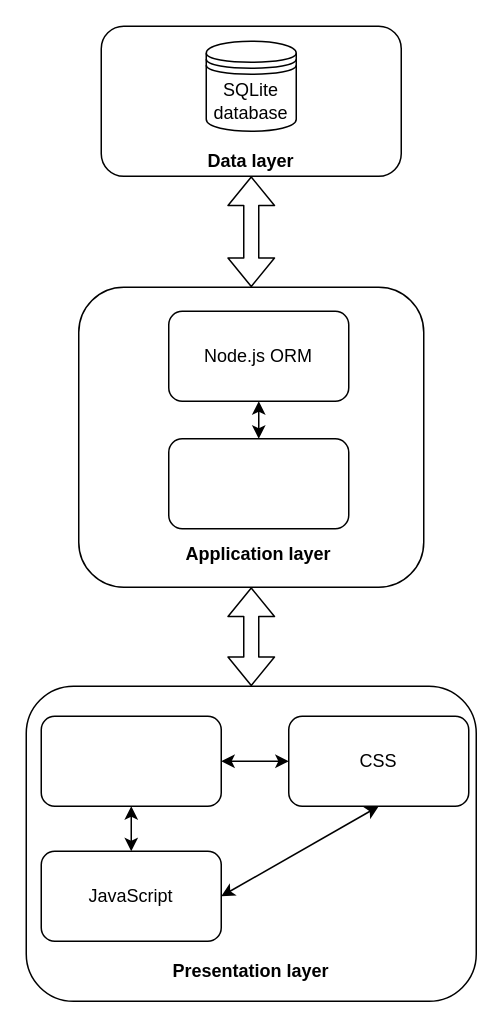
The diagram is 503 pixels wide and 1028 high, and some of its shapes have lost their labels. The shapes that lost their labels are listed below. From the top down, each one's box as (x1, y1, x2, y2) in pixels, then its label:
(167, 437, 349, 529): Node.js Controllers
(40, 715, 221, 806): HTML
